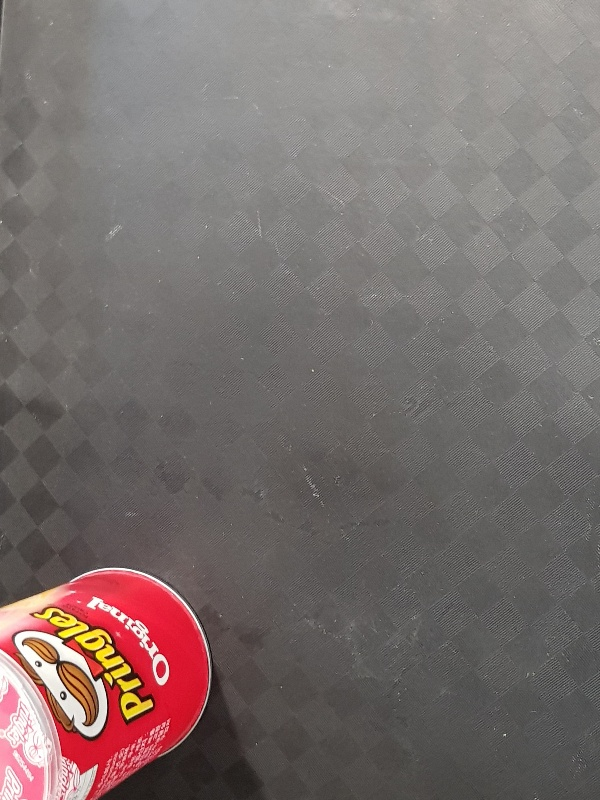Pringles Original: (1, 566, 212, 800)
